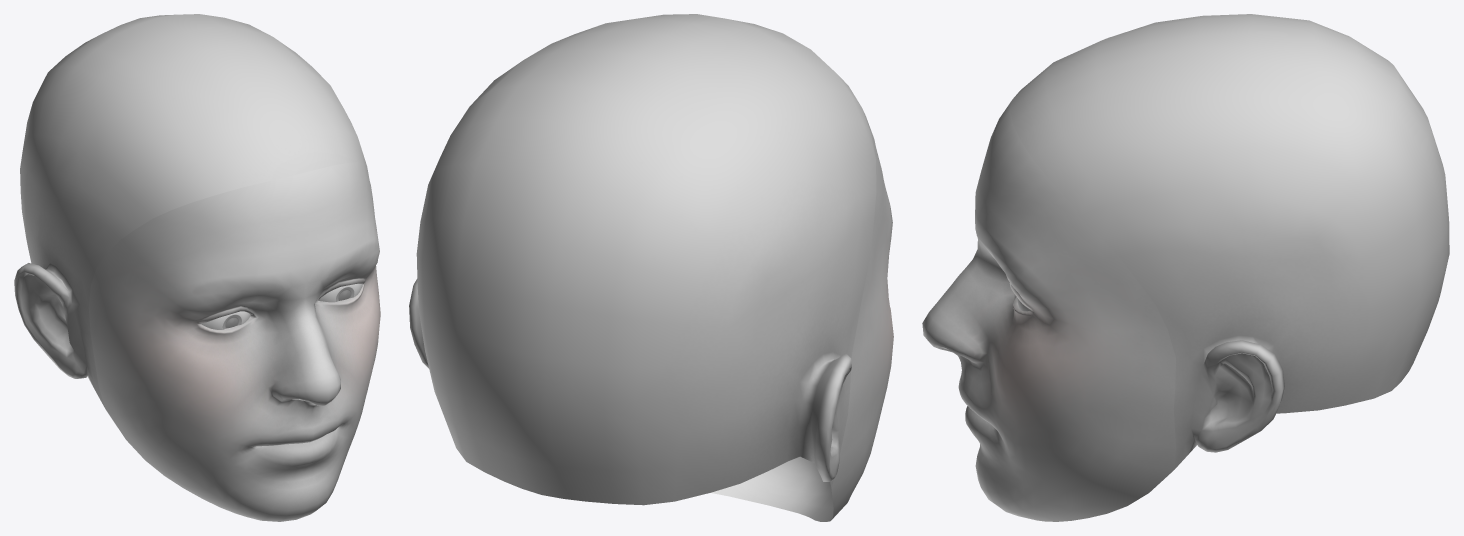
3 views of the same model, side by side, from view 1: azimuth 30°, elevation 25°; view 2: azimuth 150°, elevation 25°; view 3: azimuth 270°, elevation 25° (orthographic). The views are drawn at different scales.
Visible parts, largest first — view 1: head, eyeLeft, eyeRight; view 2: head; view 3: head.
Part boxes in pixels (x1,y1,x2,y2): head: (14,14,380,521); eyeLeft: (201,311,250,329); eyeRight: (318,283,362,302); head: (409,14,893,521); head: (922,14,1449,521).
Size of the model in its own units: 19.03 by 23.38 by 23.57.
1 material, 1 textured.
